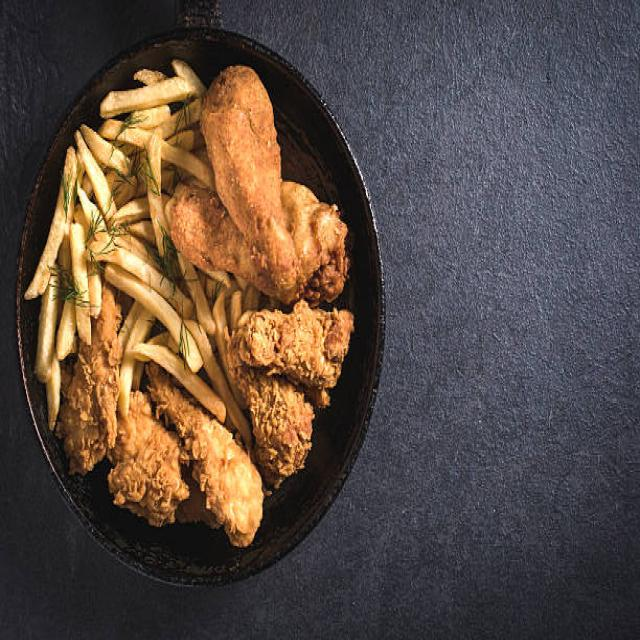Frango: (47, 66, 356, 552)
